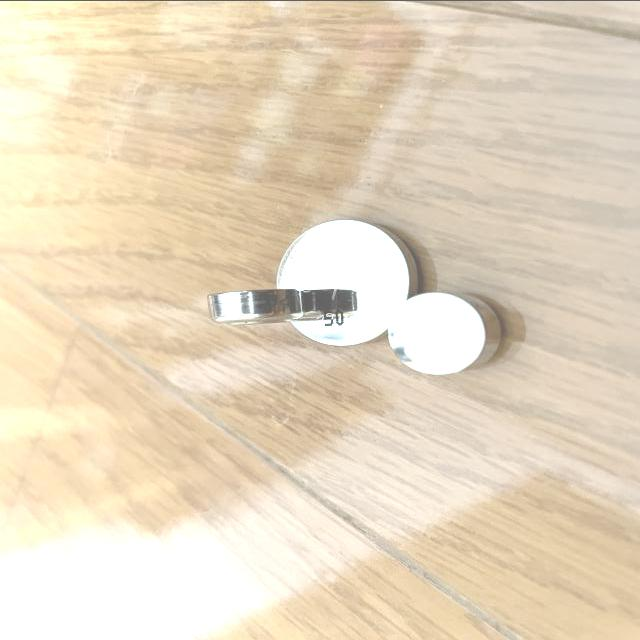COIN: (272, 215, 422, 347), (387, 286, 500, 374), (203, 283, 306, 330)
